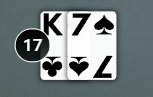7: (66, 10, 94, 39)
k: (39, 10, 65, 39)
